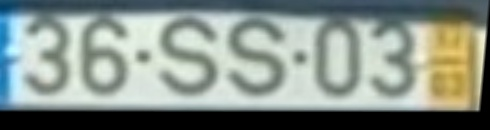0: (311, 15, 364, 100)
3: (20, 12, 74, 102), (368, 14, 419, 101)
6: (78, 15, 131, 101)
S: (156, 14, 222, 99), (224, 15, 287, 101)
